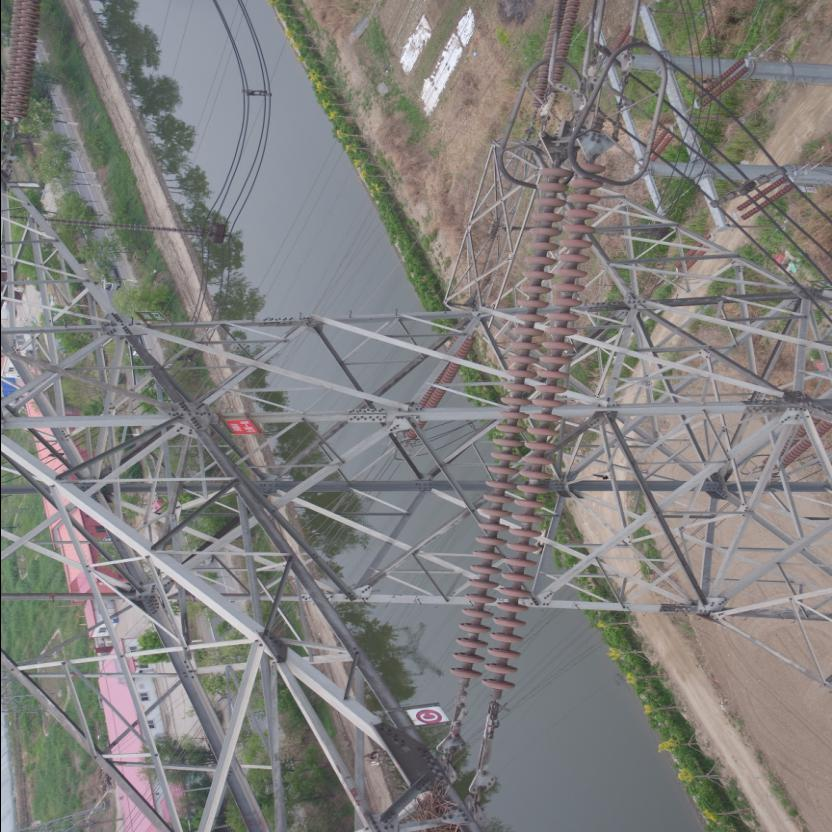insulator: (447, 150, 605, 724)
